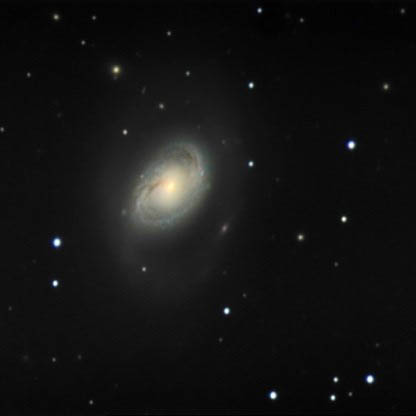Messier 96: (96, 98, 252, 292)
